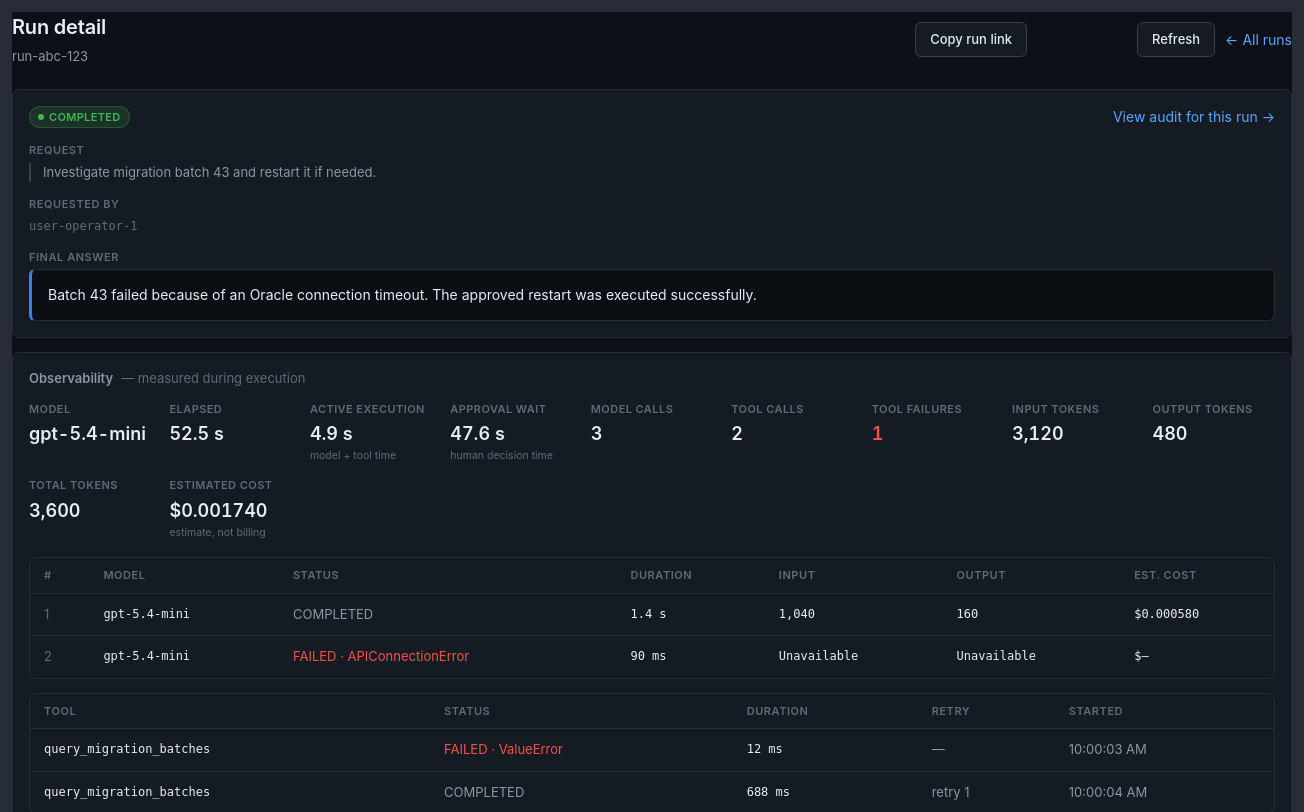
Test: run detail statistics and sharing › reports a copy failure instead of claiming success
The image size is (1304, 812).
Click the button "Copy run link".
click(971, 39)  # box x1=915 y1=22 x2=1027 y2=57
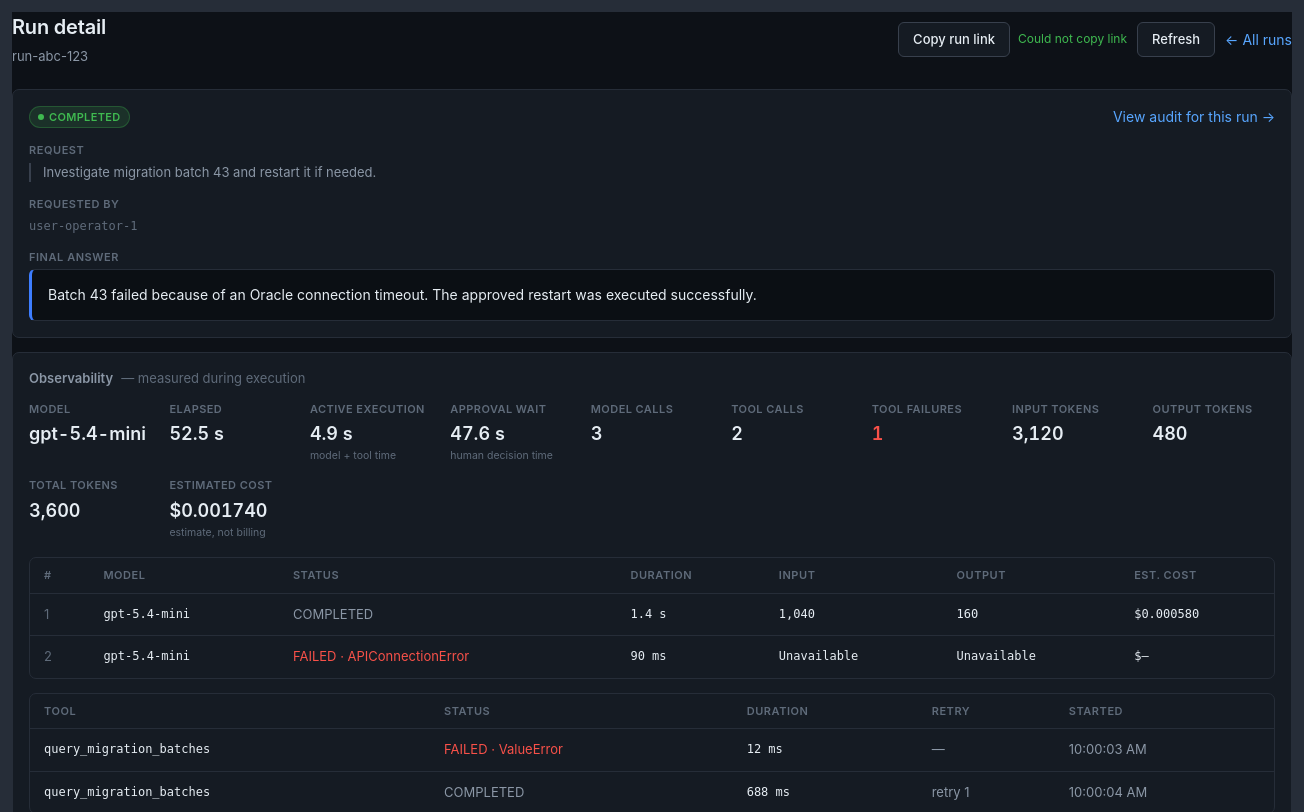
Check: the text "Could not copy link" is shown, box x1=1018 y1=30 x2=1127 y2=48
